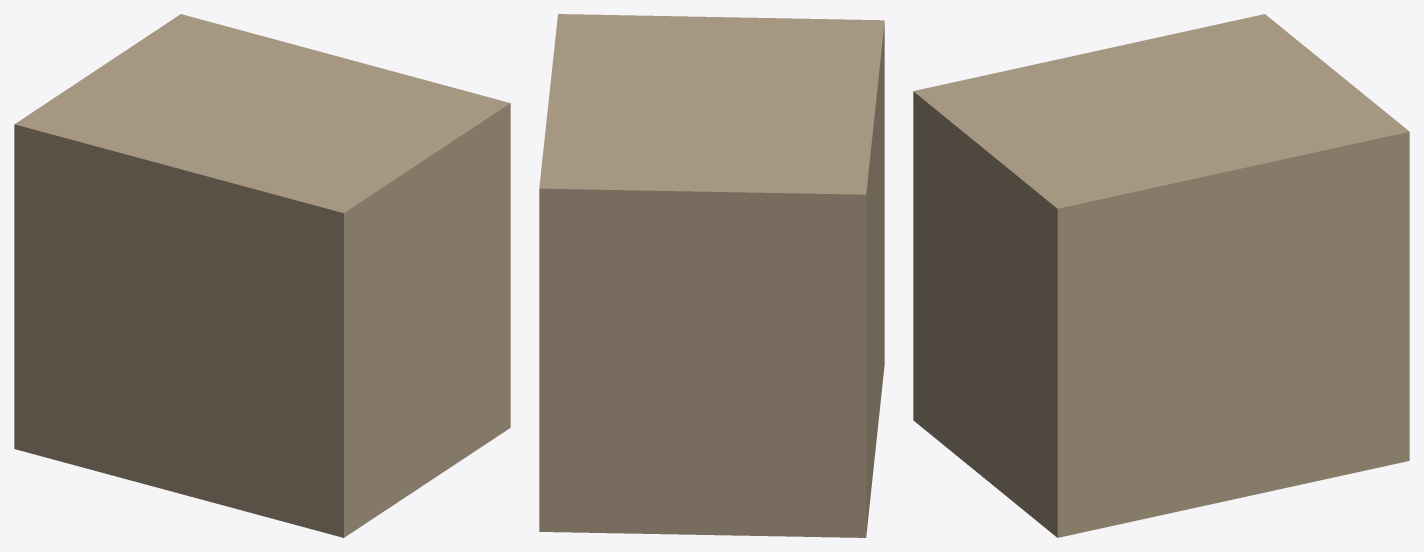
File: bld_158596257.dae
The picture shows the model from 3 angles, left to right: view 1: azimuth 30°, elevation 25°; view 2: azimuth 150°, elevation 25°; view 3: azimuth 270°, elevation 25°; orthographic projection. The views are drawn at different scales.
Visible parts, largest first — view 1: bld_158596257; view 2: bld_158596257; view 3: bld_158596257.
Part boxes in pixels (bbox=[...]): bld_158596257: bbox=[14, 14, 510, 537]; bld_158596257: bbox=[539, 14, 884, 537]; bld_158596257: bbox=[913, 14, 1409, 537].
Size of the model in its own units: 10.15 by 10.94 by 8.
